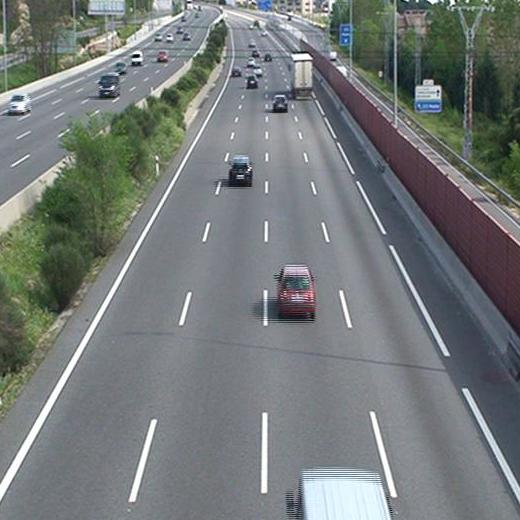car: (275, 265, 314, 316), (226, 154, 254, 188), (271, 94, 289, 113), (246, 74, 258, 89), (229, 66, 242, 78), (247, 56, 257, 67), (263, 52, 273, 61), (253, 67, 262, 76)
truck: (288, 53, 313, 99)
